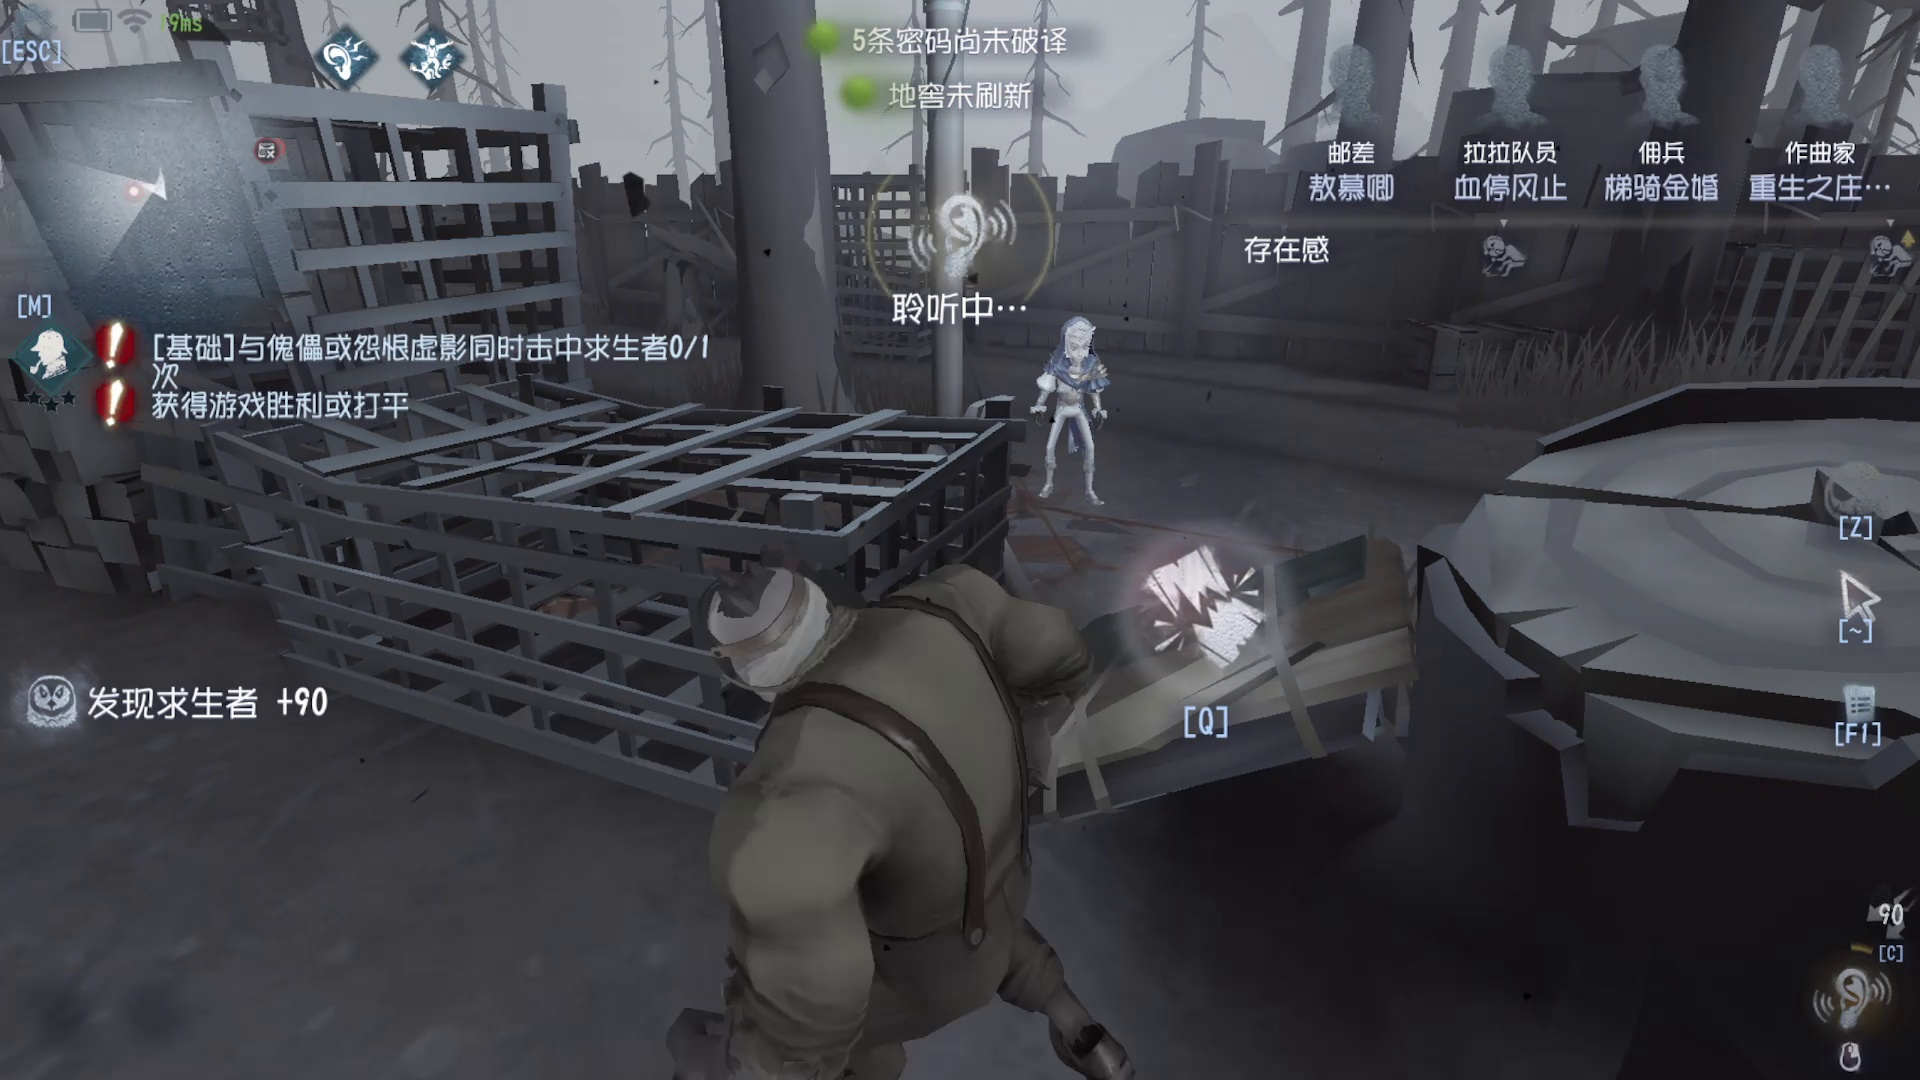木板: (989, 559, 1432, 789)
求生者: (1025, 297, 1112, 488)
